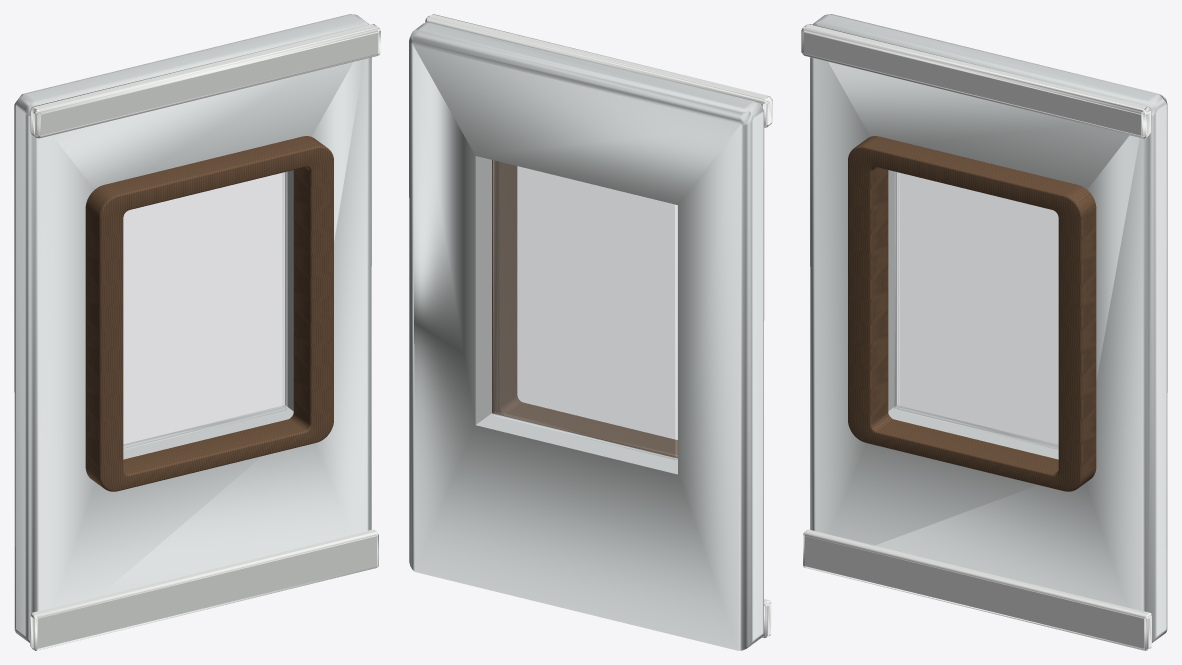
Rendered from Window.glb.
3 renders of one model, left to right at view 1: azimuth 30°, elevation 25°; view 2: azimuth 150°, elevation 25°; view 3: azimuth 330°, elevation 25°, orthographic.
Parts seen in each view (by area): view 1: PBK_substrate.001, PBK_glass.001, PBK_Continuous_Frame_Modern_Window.003, PBK_base_trim.001, PBK_floor_band.001; view 2: PBK_substrate.001, PBK_glass.001, PBK_Continuous_Frame_Modern_Window.003, PBK_floor_band.001; view 3: PBK_substrate.001, PBK_glass.001, PBK_Continuous_Frame_Modern_Window.003, PBK_base_trim.001, PBK_floor_band.001.
Boxes of the visible parts, box(x1,y1,x2,y2) form: PBK_substrate.001: box(14, 14, 371, 642); PBK_glass.001: box(123, 172, 287, 449); PBK_Continuous_Frame_Modern_Window.003: box(85, 136, 333, 491); PBK_base_trim.001: box(30, 529, 378, 650); PBK_floor_band.001: box(30, 24, 380, 138); PBK_substrate.001: box(409, 22, 764, 650); PBK_glass.001: box(493, 160, 677, 459); PBK_Continuous_Frame_Modern_Window.003: box(492, 160, 677, 458); PBK_floor_band.001: box(425, 14, 772, 127); PBK_substrate.001: box(810, 14, 1167, 642); PBK_glass.001: box(894, 172, 1058, 449); PBK_Continuous_Frame_Modern_Window.003: box(848, 136, 1096, 491); PBK_base_trim.001: box(803, 529, 1151, 650); PBK_floor_band.001: box(801, 24, 1151, 138).
Bounding box in the file's own units: 2 × 3 × 0.345.
4 materials, 1 textured.
